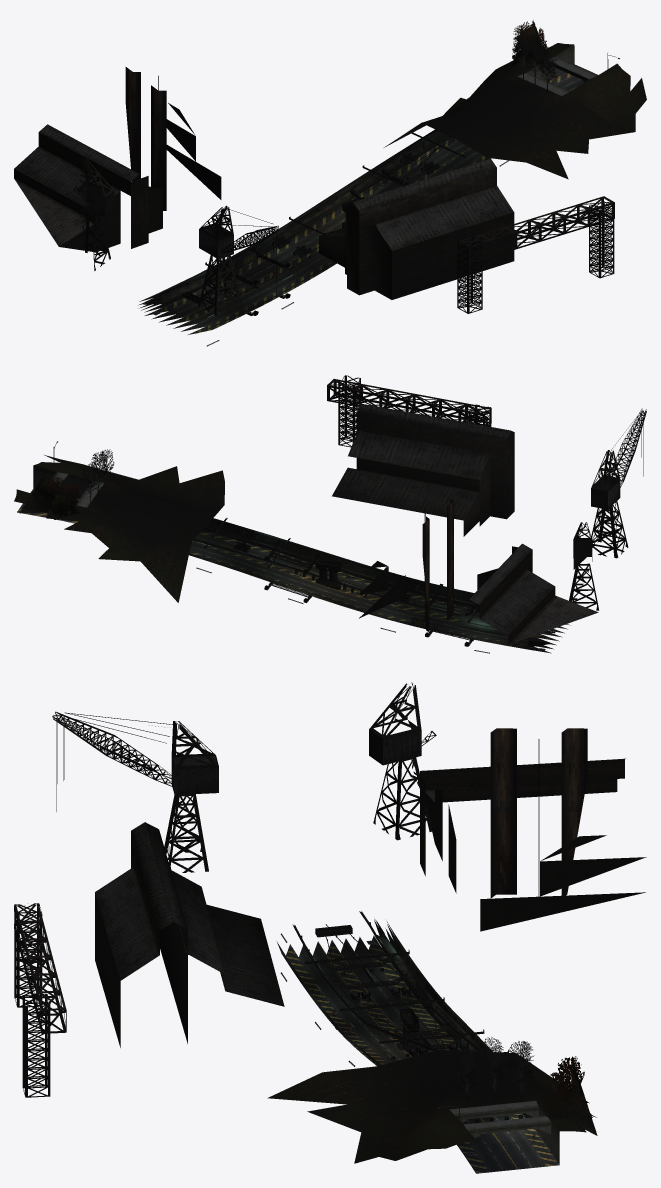
Rendered from cell_14_-3.gltf.
3 views of the same model, one above another, from view 1: azimuth 30°, elevation 25°; view 2: azimuth 150°, elevation 25°; view 3: azimuth 270°, elevation 25° (orthographic). The views are drawn at different scales.
Visible parts, largest first — view 1: cell_14_-3; view 2: cell_14_-3; view 3: cell_14_-3.
Boxes of the visible parts, box(x1,y1,x2,y2) form: cell_14_-3: box(14, 20, 646, 346); cell_14_-3: box(14, 375, 646, 653); cell_14_-3: box(14, 682, 646, 1173).
Bounding box in the file's own units: 260 × 81.44 × 176.
Materials: 39 (39 with a texture image).
